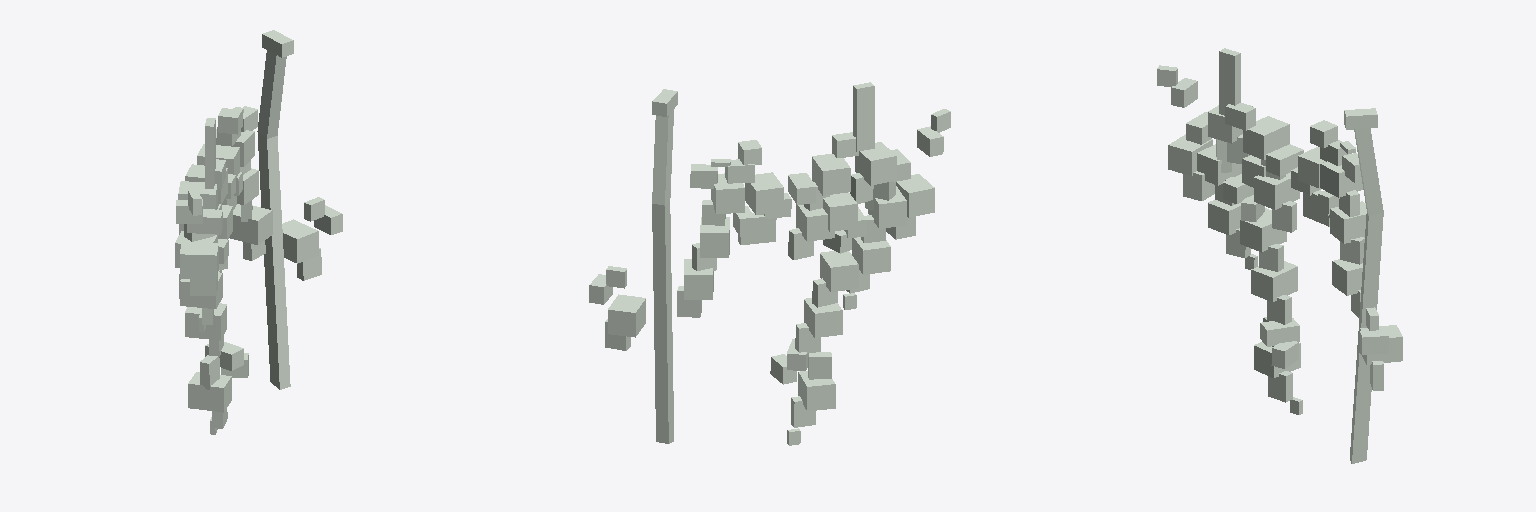
File: Undercity.obj
The picture shows the model from 3 angles: view 1: azimuth 30°, elevation 25°; view 2: azimuth 150°, elevation 25°; view 3: azimuth 270°, elevation 25°; orthographic projection.
Visible parts, largest first — view 1: Undercity; view 2: Undercity; view 3: Undercity.
Boxes of the visible parts, x1=… form: Undercity: x1=175, y1=30, x2=342, y2=434; Undercity: x1=589, y1=82, x2=950, y2=445; Undercity: x1=1157, y1=48, x2=1402, y2=463.
Bounding box in the file's own units: 55.28 × 71.77 × 45.99.